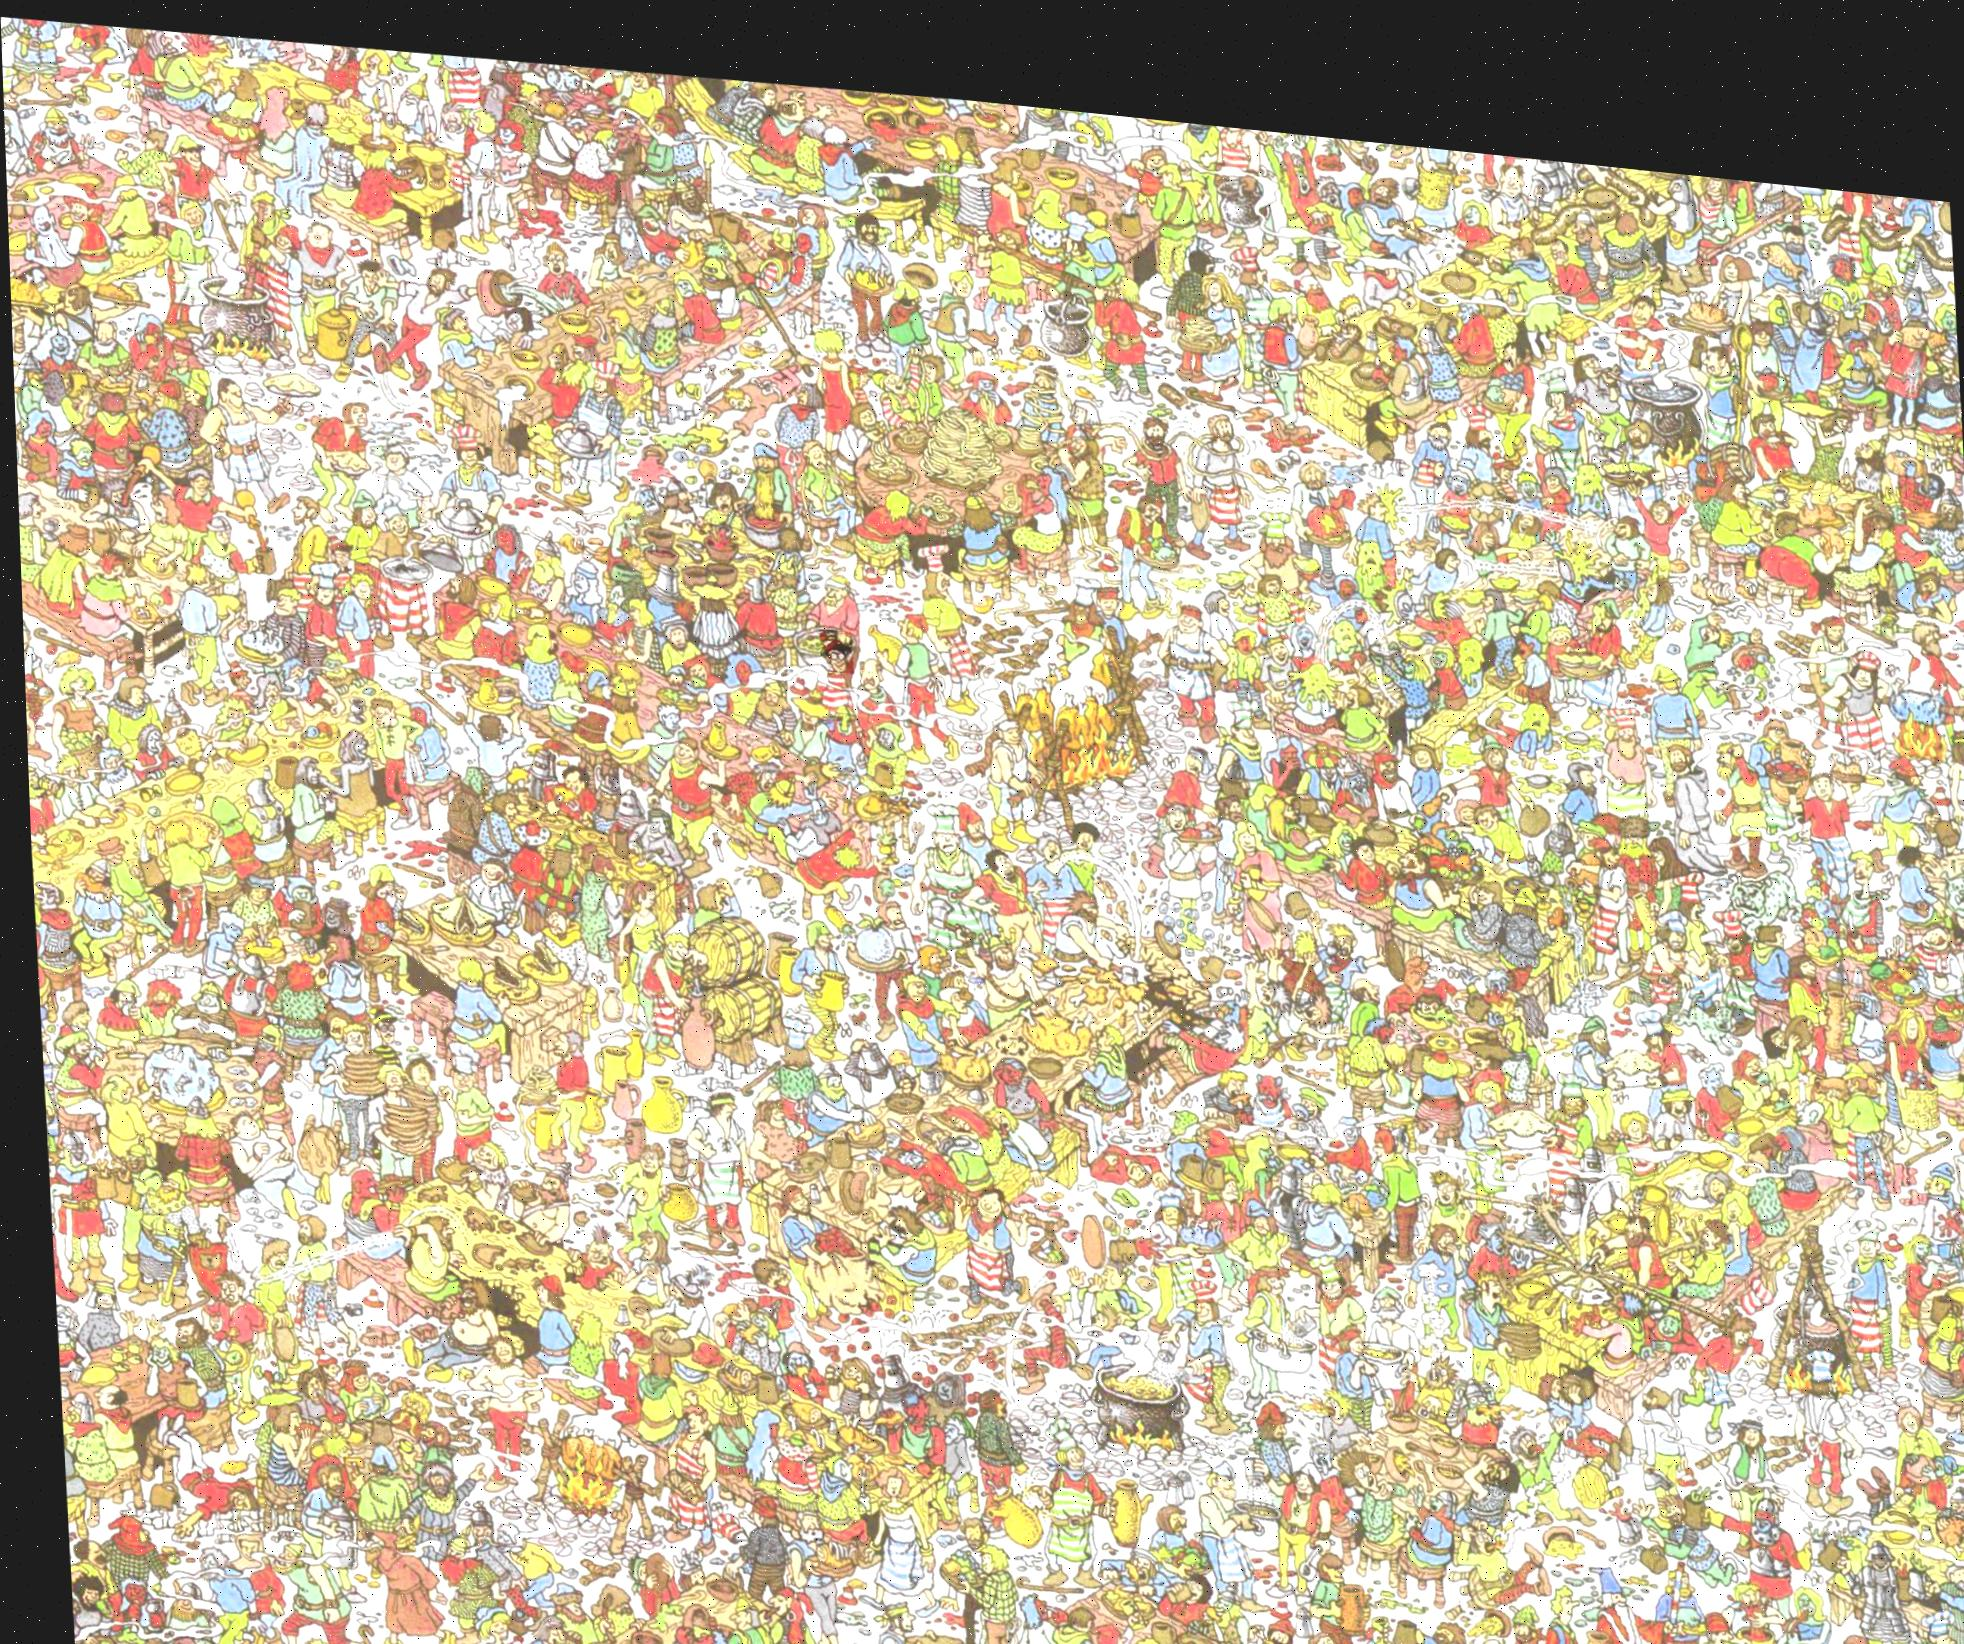waldo: (816, 610, 850, 656)
